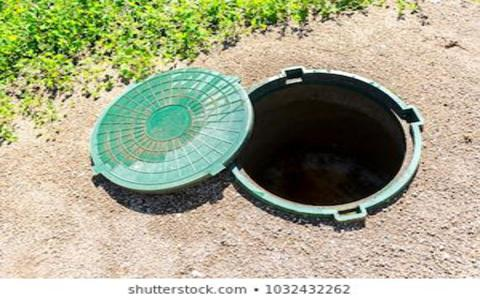open manhole: (213, 58, 432, 237)
